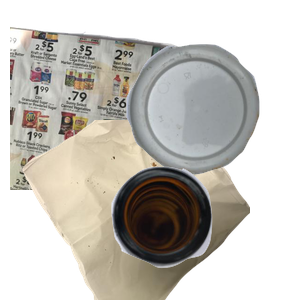glass: (109, 164, 300, 300)
paper: (10, 22, 225, 202)
plastic: (124, 42, 300, 210)
trash: (20, 120, 260, 300)
